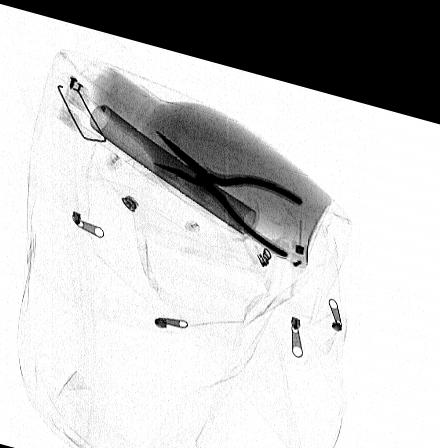Pliers: (151, 120, 302, 244)
